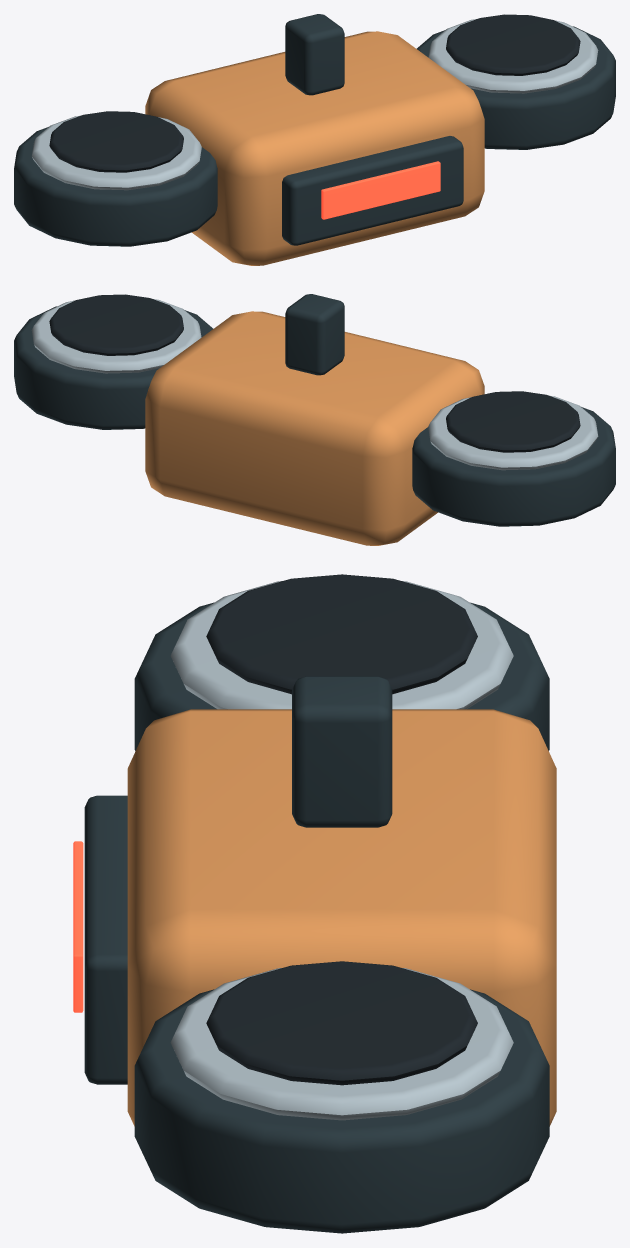
Rendered from ion-drone.glb.
3 views of the same model, one above another, from view 1: azimuth 30°, elevation 25°; view 2: azimuth 150°, elevation 25°; view 3: azimuth 270°, elevation 25° (orthographic). The views are drawn at different scales.
Visible parts, largest first — view 1: Warm ceramic, Graphite, Tread rubber, Brushed alloy, Tail red; view 2: Warm ceramic, Graphite, Tread rubber, Brushed alloy; view 3: Warm ceramic, Graphite, Tread rubber, Brushed alloy, Tail red.
Part boxes in pixels (x1=…): Warm ceramic: x1=145, y1=31, x2=484, y2=265; Graphite: x1=14, y1=14, x2=615, y2=246; Tread rubber: x1=49, y1=14, x2=580, y2=172; Brushed alloy: x1=31, y1=19, x2=598, y2=190; Tail red: x1=321, y1=161, x2=440, y2=219; Warm ceramic: x1=145, y1=311, x2=484, y2=545; Graphite: x1=14, y1=294, x2=615, y2=526; Tread rubber: x1=49, y1=294, x2=580, y2=452; Brushed alloy: x1=31, y1=299, x2=598, y2=470; Warm ceramic: x1=127, y1=709, x2=556, y2=1126; Graphite: x1=84, y1=602, x2=549, y2=1233; Tread rubber: x1=206, y1=574, x2=477, y2=1085; Brushed alloy: x1=170, y1=581, x2=513, y2=1120; Tail red: x1=73, y1=841, x2=83, y2=1012.
Bounding box in the file's own units: 1.86 × 0.585 × 0.676.
